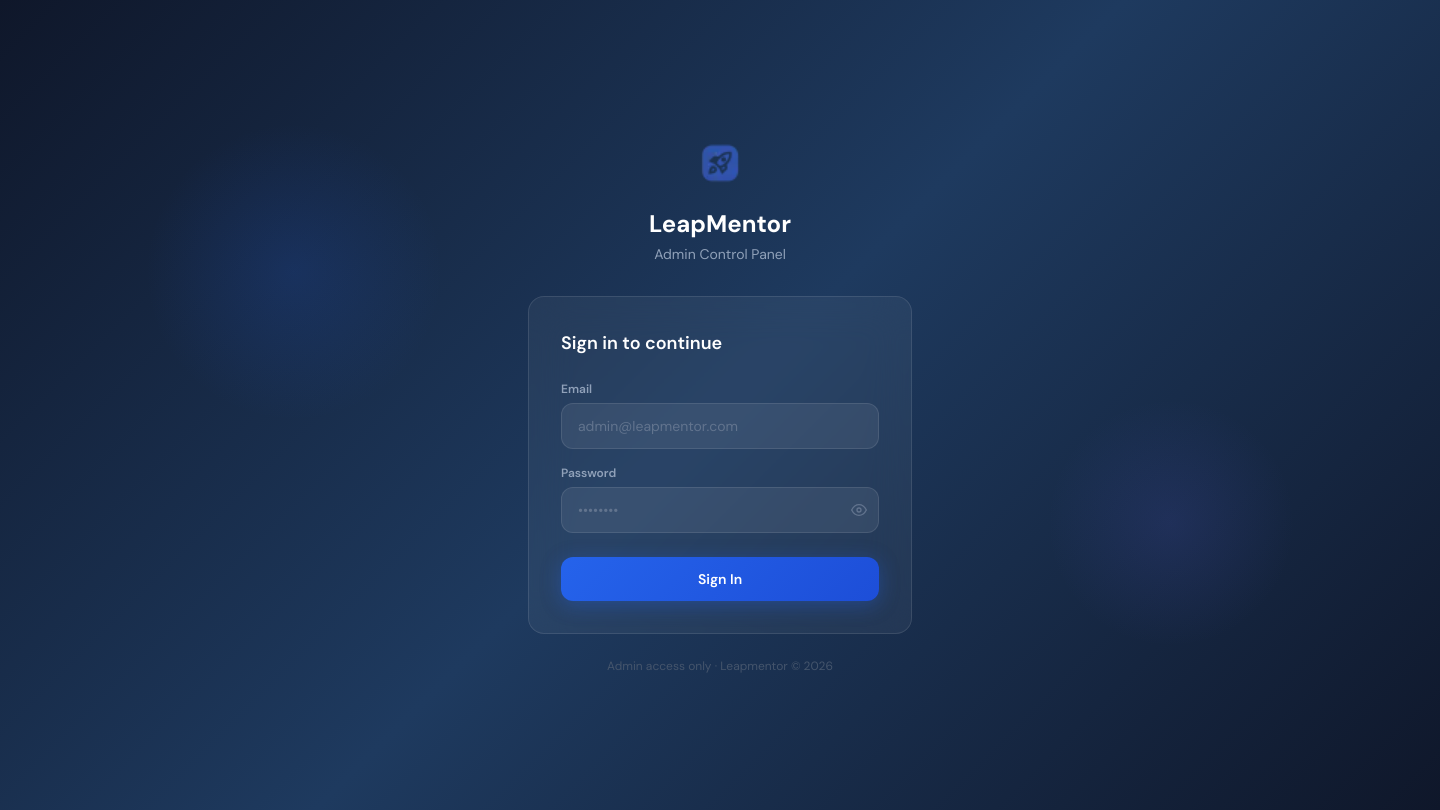
Test case: AdminLogin › shows an error message when login fails
The width and height of the screenshot is (1440, 810).
Type "bad@example.com" into the field labelled "Email".
click(720, 426); type("bad@example.com")  # box [561,403,879,449]
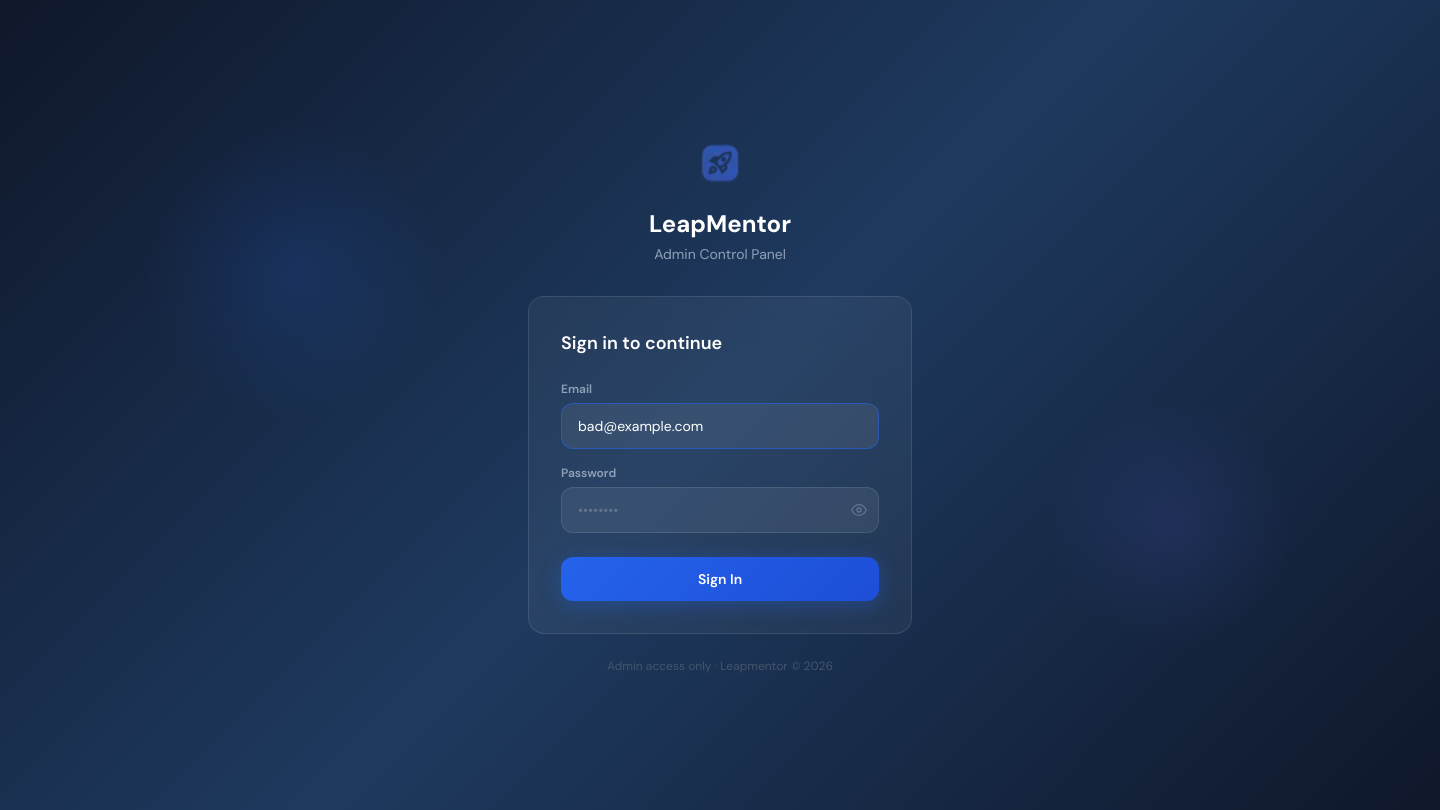
Type "wrong" into the password field labelled "Password".
click(720, 510); type("wrong")  # box [561,487,879,533]
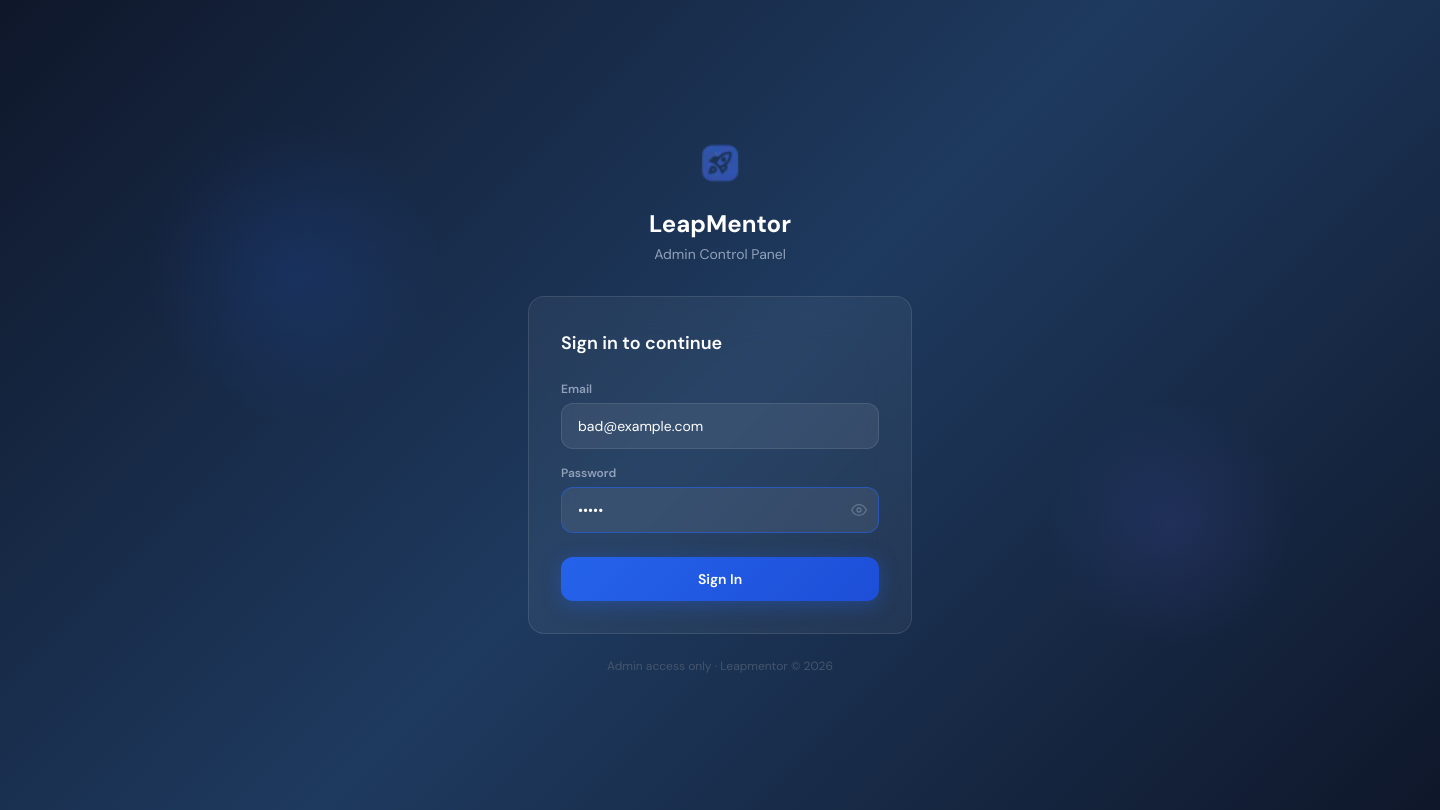
Click the button "Sign In".
click(720, 579)  # box [561,557,879,601]
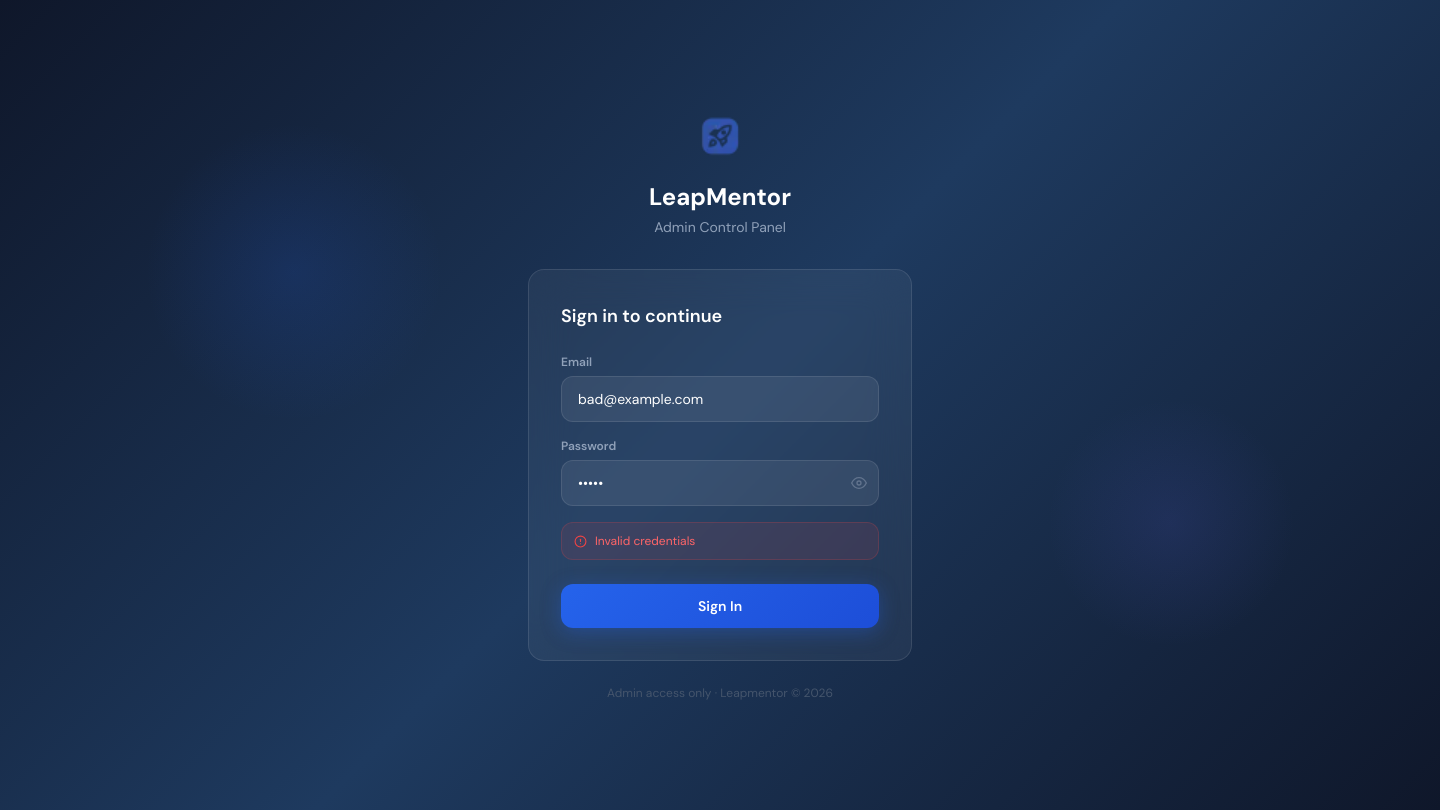
Expected: the text "Invalid credentials" is shown, [595,533,695,549]
